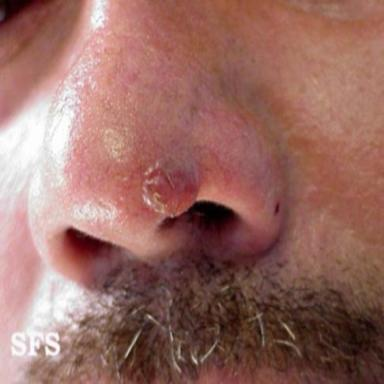basal-cell-carcinoma: (141, 155, 199, 217)
